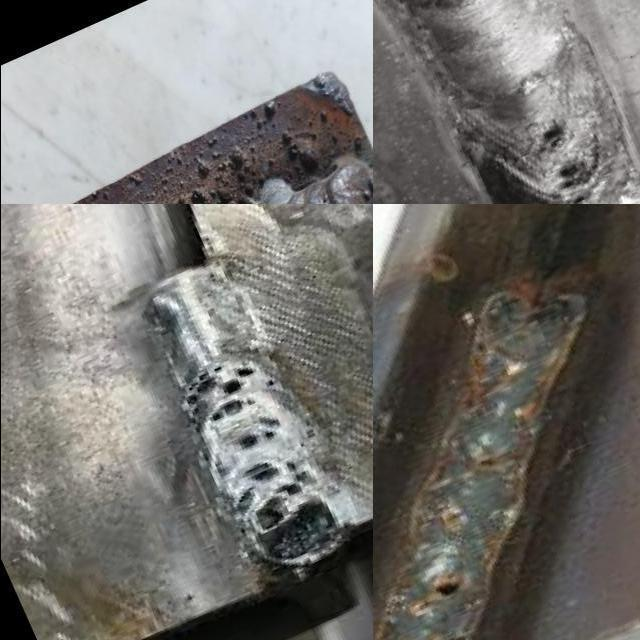defect: (223, 451, 346, 571), (178, 354, 265, 432), (546, 151, 608, 204), (525, 116, 579, 161), (231, 411, 285, 454), (432, 578, 465, 602)
